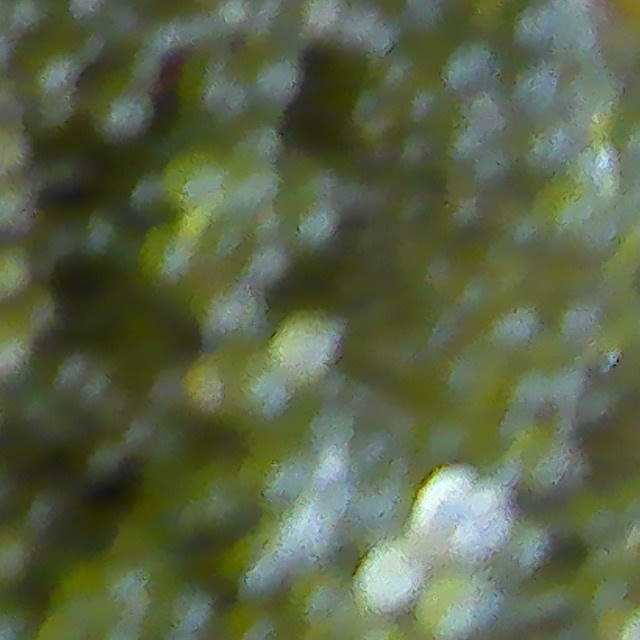SeaGrape: (270, 309, 337, 378), (354, 540, 419, 611), (411, 466, 470, 541), (456, 481, 515, 554)
